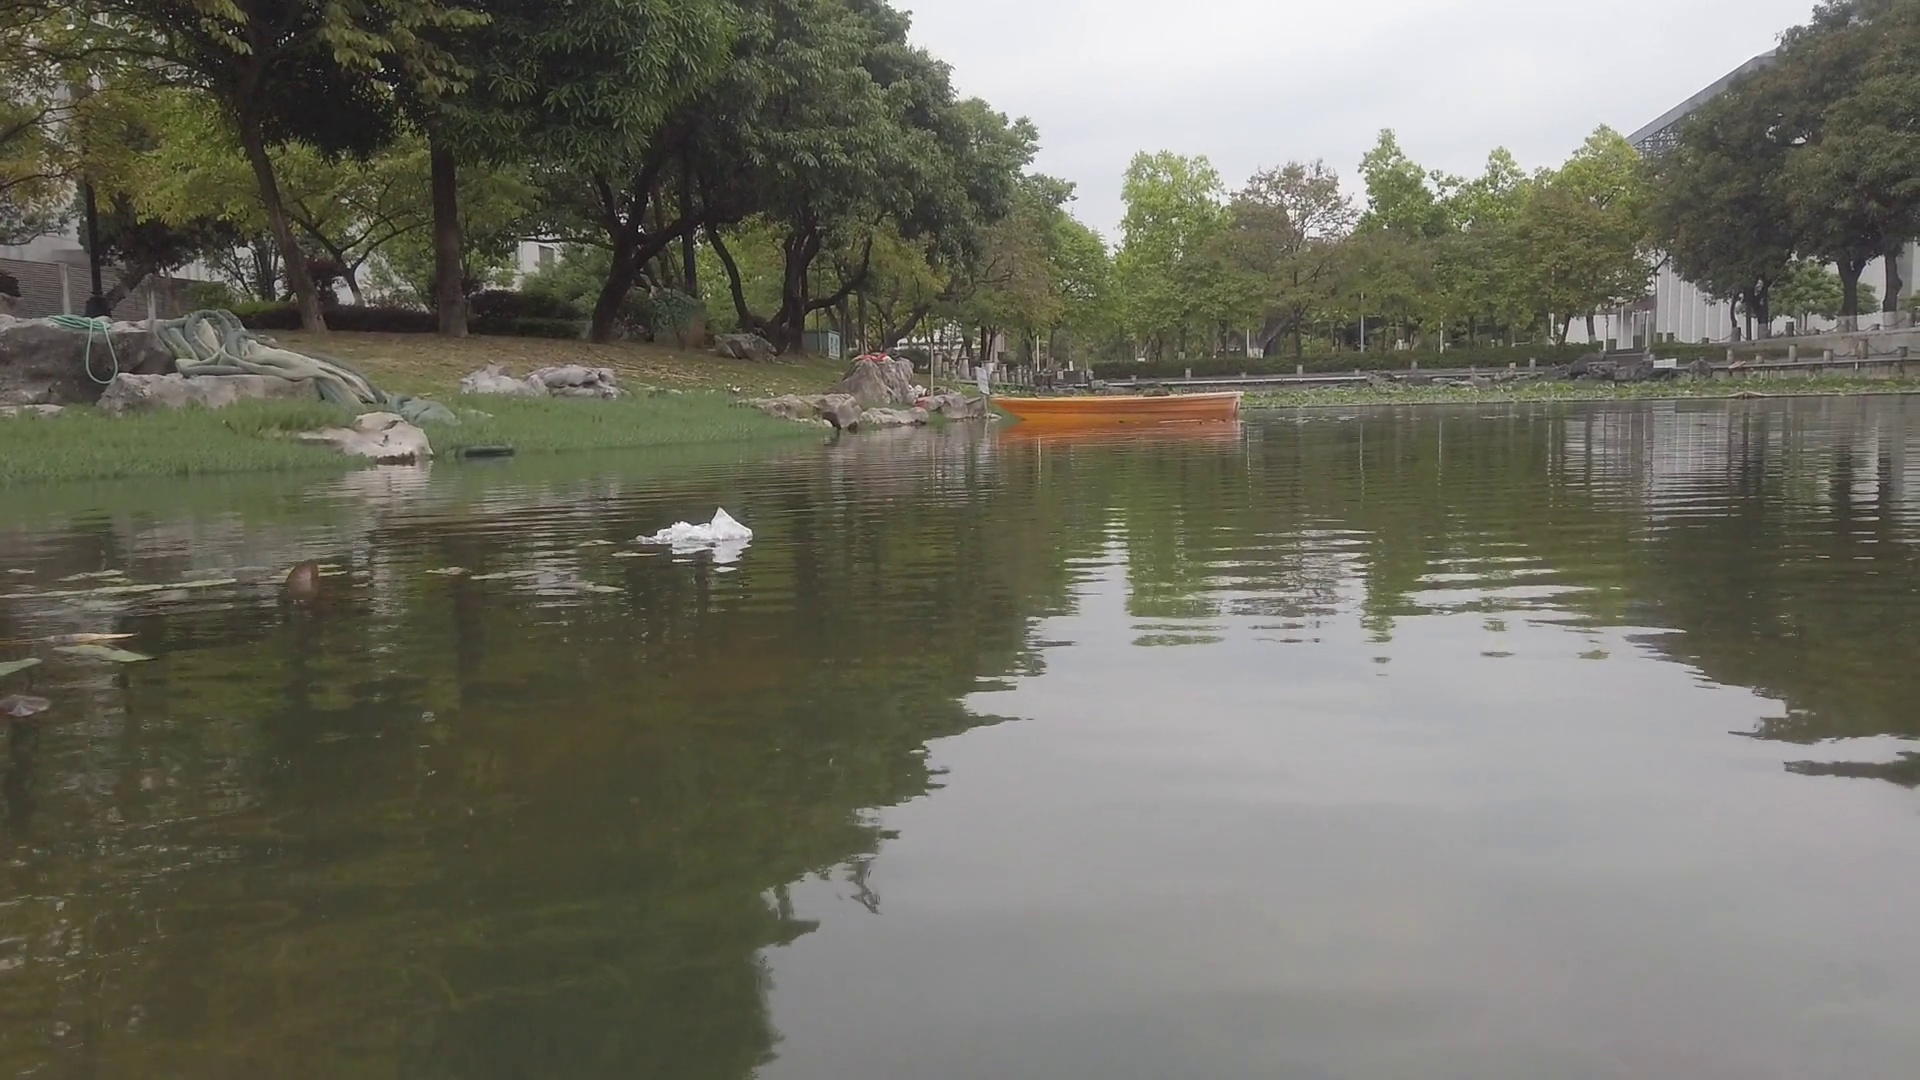plastic: (646, 506, 754, 541)
